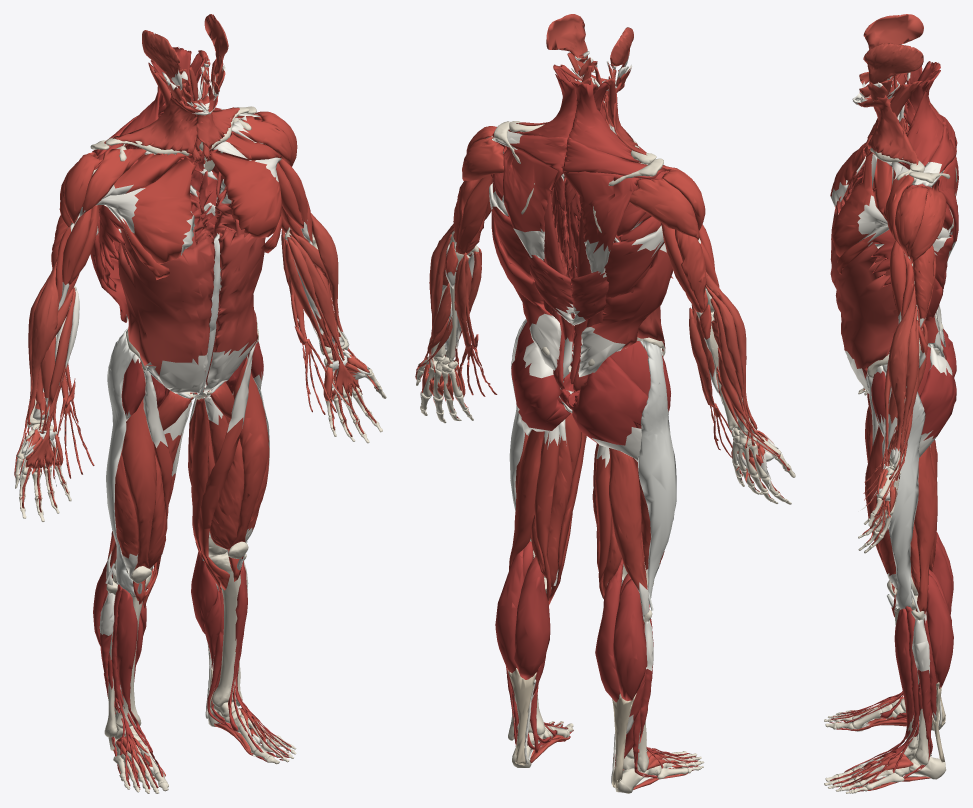
The model's file is anatomyverse-limbs.glb.
The picture shows the model from 3 angles, left to right: view 1: azimuth 30°, elevation 25°; view 2: azimuth 150°, elevation 25°; view 3: azimuth 270°, elevation 25°; orthographic projection. The views are drawn at different scales.
Visible parts, largest first — view 1: m_external-oblique_R, m_pectoralis-major_R, m_pectoralis-major_L, m_external-oblique_L, m_rectus-femoris_R, m_rectus-femoris_L, m_deltoid_R, f_iliotibial-tract_R, m_platysma_R, m_sartorius_L, b_tibia_L, m_vastus-medialis_L (+45 smaller); view 2: m_trapezius_R, m_trapezius_L, f_iliotibial-tract_R, m_latissimus-dorsi_R, m_gastrocnemius_L, m_gastrocnemius_R, m_gluteus-maximus_R, m_biceps-femoris_R, m_deltoid_R, m_latissimus-dorsi_L, m_gluteus-maximus_L, m_triceps-brachii_R (+30 smaller); view 3: m_external-oblique_L, f_iliotibial-tract_L, m_deltoid_L, m_pectoralis-major_L, m_trapezius_L, m_biceps-femoris_L, m_gastrocnemius_L, m_brachioradialis_L, b_foot-bones_L, m_platysma_L, m_gluteus-maximus_L, m_temporalis_L (+41 smaller).
Part boxes in pixels (left/top/right/bottom): m_external-oblique_R: left=118, top=232, right=215, bottom=375; m_pectoralis-major_R: left=114, top=152, right=196, bottom=279; m_pectoralis-major_L: left=210, top=132, right=284, bottom=253; m_external-oblique_L: left=213, top=229, right=265, bottom=356; m_rectus-femoris_R: left=121, top=377, right=156, bottom=604; m_rectus-femoris_L: left=228, top=358, right=269, bottom=581; m_deltoid_R: left=59, top=148, right=146, bottom=227; f_iliotibial-tract_R: left=106, top=328, right=134, bottom=595; m_platysma_R: left=112, top=92, right=201, bottom=154; m_sartorius_L: left=198, top=417, right=243, bottom=590; b_tibia_L: left=208, top=552, right=242, bottom=707; m_vastus-medialis_L: left=209, top=439, right=244, bottom=570; m_trapezius_R: left=562, top=82, right=665, bottom=253; m_trapezius_L: left=503, top=76, right=576, bottom=232; f_iliotibial-tract_R: left=637, top=340, right=676, bottom=604; m_latissimus-dorsi_R: left=588, top=240, right=672, bottom=350; m_gastrocnemius_L: left=495, top=549, right=550, bottom=679; m_gastrocnemius_R: left=595, top=559, right=647, bottom=702; m_gluteus-maximus_R: left=572, top=356, right=648, bottom=445; m_biceps-femoris_R: left=609, top=448, right=647, bottom=590; m_deltoid_R: left=629, top=164, right=705, bottom=239; m_latissimus-dorsi_L: left=491, top=206, right=551, bottom=327; m_gluteus-maximus_L: left=511, top=347, right=570, bottom=430; m_triceps-brachii_R: left=660, top=222, right=707, bottom=312; m_external-oblique_L: left=830, top=240, right=898, bottom=379; f_iliotibial-tract_L: left=882, top=364, right=925, bottom=609; m_deltoid_L: left=885, top=169, right=946, bottom=263; m_pectoralis-major_L: left=831, top=153, right=892, bottom=274; m_trapezius_L: left=906, top=70, right=958, bottom=244; m_biceps-femoris_L: left=910, top=446, right=937, bottom=614; m_gastrocnemius_L: left=926, top=569, right=953, bottom=688; m_brachioradialis_L: left=888, top=284, right=916, bottom=451; b_foot-bones_L: left=824, top=747, right=946, bottom=793; m_platysma_L: left=857, top=95, right=918, bottom=165; m_gluteus-maximus_L: left=919, top=364, right=956, bottom=440; m_temporalis_L: left=863, top=43, right=923, bottom=84.
Bounding box in the file's own units: 0.8564 × 1.6 × 0.27.
